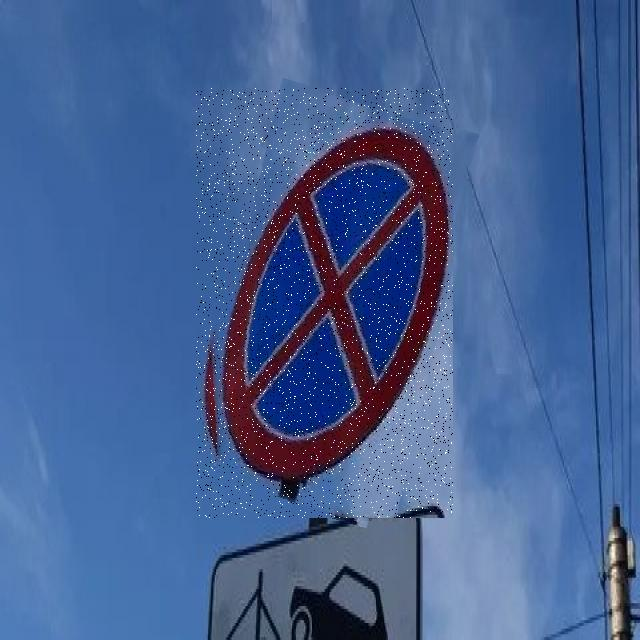no stopping: (196, 88, 453, 518)
